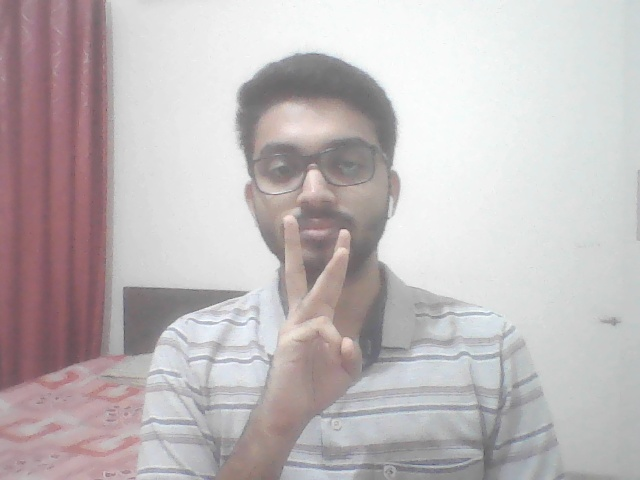water: (238, 203, 425, 444)
